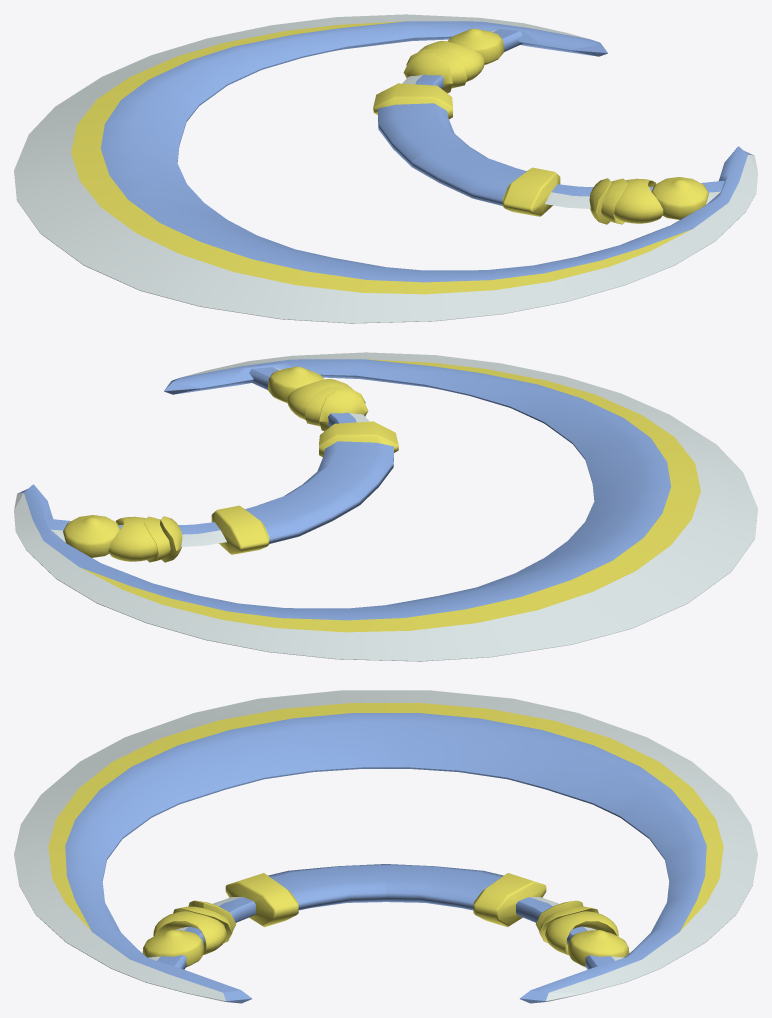
File: Moonset_FBX_Chakram_02.fbx
The picture shows the model from 3 angles, top to bottom: view 1: azimuth 30°, elevation 25°; view 2: azimuth 150°, elevation 25°; view 3: azimuth 270°, elevation 25°; orthographic projection. The views are drawn at different scales.
Parts seen in each view (by area): view 1: Chakram_Shape; view 2: Chakram_Shape; view 3: Chakram_Shape.
Boxes of the visible parts, x1=… form: Chakram_Shape: x1=14, y1=14, x2=757, y2=323; Chakram_Shape: x1=14, y1=352, x2=757, y2=661; Chakram_Shape: x1=14, y1=690, x2=757, y2=1003.
Size of the model in its own units: 1.78 by 0.1167 by 1.8.
